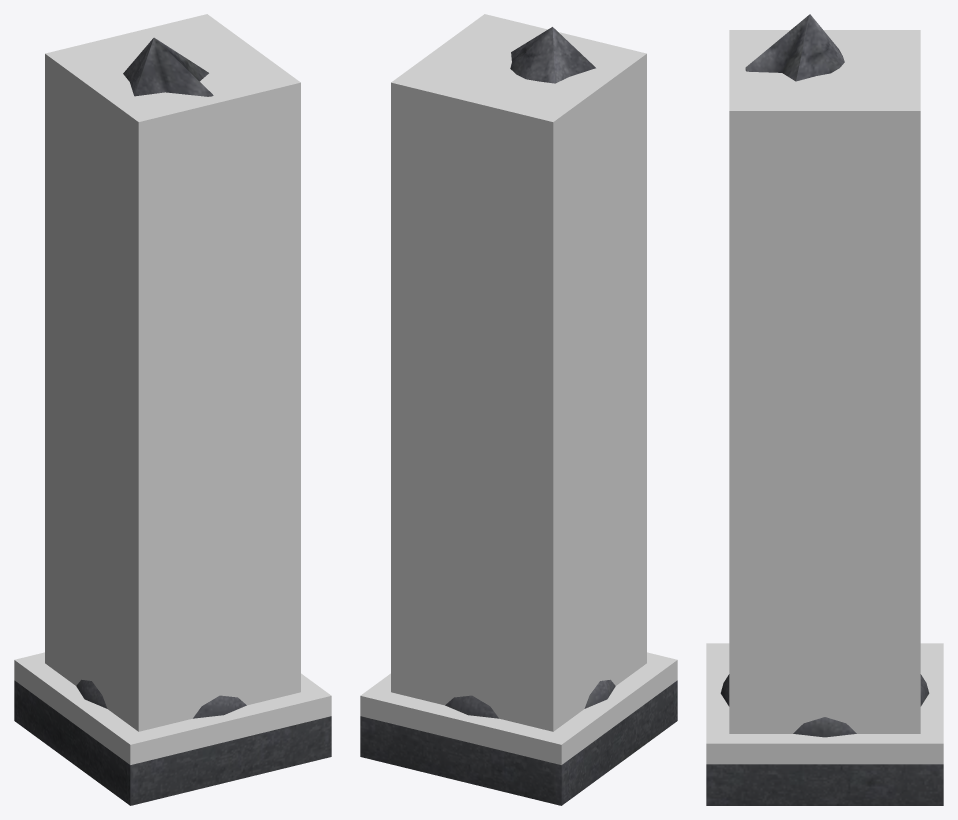
The model's file is column_ruin.low.webp.glb.
3 renders of one model, left to right at view 1: azimuth 30°, elevation 25°; view 2: azimuth 150°, elevation 25°; view 3: azimuth 270°, elevation 25°, orthographic. The views are drawn at different scales.
Parts seen in each view (by area): view 1: COL, FRAC_0.L1, FRAC_3.L1; view 2: COL, FRAC_0.L1, FRAC_3.L1; view 3: COL, FRAC_0.L1, FRAC_3.L1.
Boxes of the visible parts, x1,y1,x2,y2 form: COL: (14, 14, 331, 764); FRAC_0.L1: (14, 679, 331, 805); FRAC_3.L1: (123, 37, 213, 96); COL: (360, 14, 677, 764); FRAC_0.L1: (360, 679, 677, 805); FRAC_3.L1: (510, 27, 595, 83); COL: (706, 30, 943, 764); FRAC_0.L1: (706, 674, 943, 805); FRAC_3.L1: (745, 14, 844, 81).
Size of what is drawn, in the model's own units: 1.24 by 4.2 by 1.24.
1 material, 1 textured.
